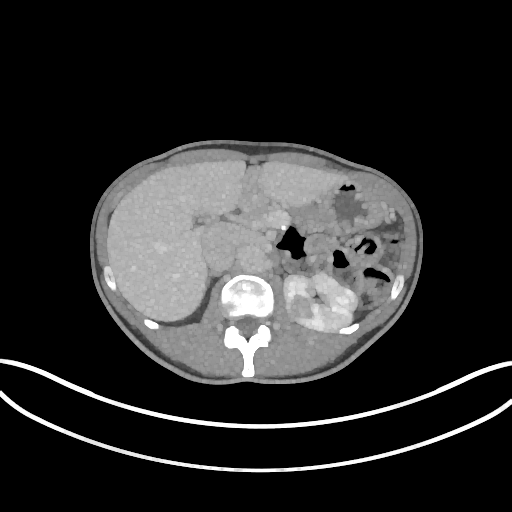Lesion: (284, 290, 317, 322)
